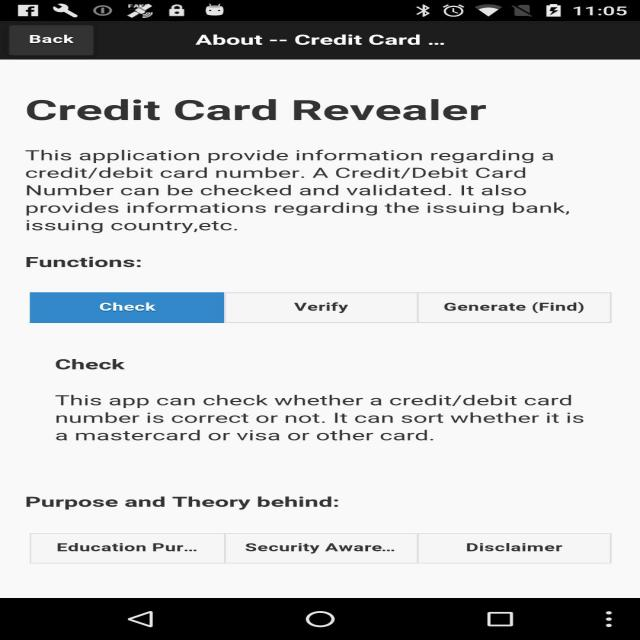button: (16, 282, 632, 333), (9, 28, 106, 56)
text: (0, 146, 604, 241), (41, 387, 604, 469), (29, 92, 493, 138), (19, 530, 610, 564), (8, 483, 370, 516), (189, 29, 472, 61), (17, 250, 170, 278), (49, 350, 153, 375)
